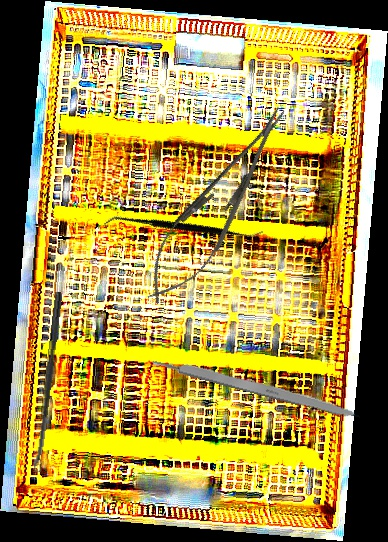Needle Holder: (131, 93, 305, 316)
Scalpel Handle: (149, 352, 364, 422)
Spatula Surgical: (103, 160, 264, 296)
Surgical Spoon: (32, 291, 63, 473)
